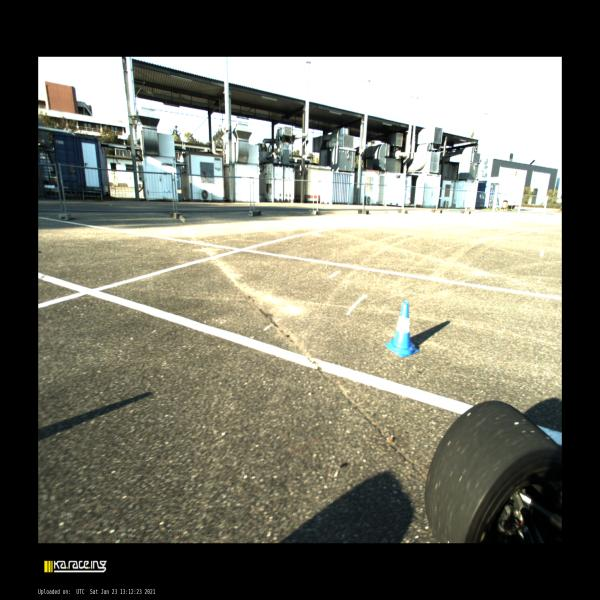blue_cone: (384, 302, 418, 356)
